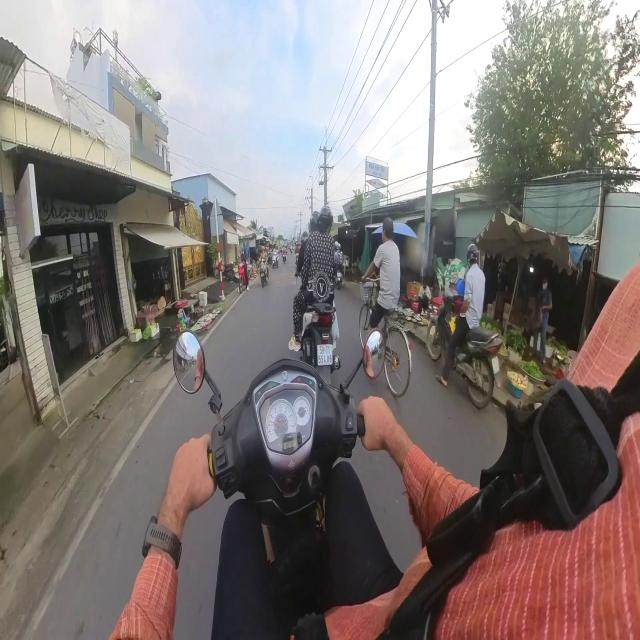motorcycle: (173, 332, 364, 629), (301, 272, 339, 383), (454, 327, 502, 408), (259, 260, 268, 287), (336, 265, 343, 289)
